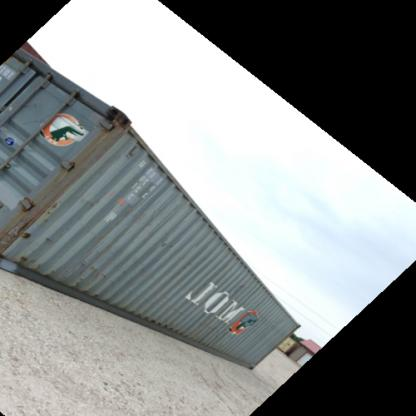Damage: (189, 268, 255, 344), (68, 256, 115, 303), (126, 302, 187, 334), (2, 223, 35, 267), (42, 200, 62, 253), (150, 231, 178, 255), (79, 189, 100, 213)
